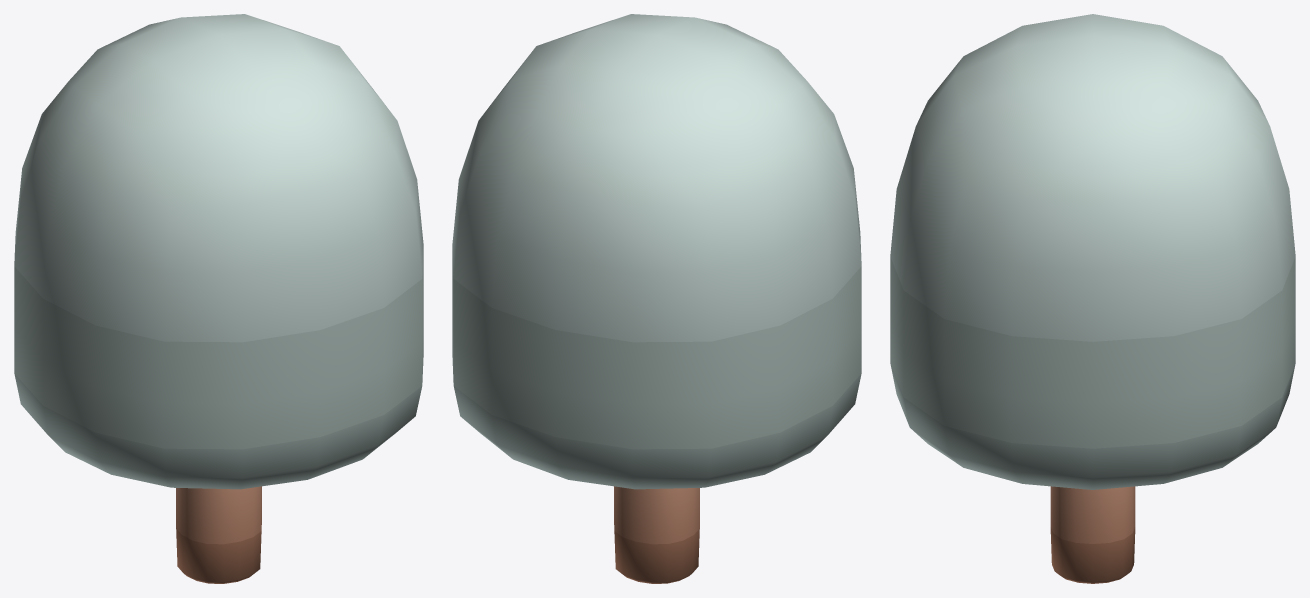
File: tree_13.fbx
3 renders of one model, left to right at view 1: azimuth 30°, elevation 25°; view 2: azimuth 150°, elevation 25°; view 3: azimuth 270°, elevation 25°, orthographic.
Parts seen in each view (by area): view 1: tree_13; view 2: tree_13; view 3: tree_13.
Part boxes in pixels (left/top/right/bottom): tree_13: left=14, top=14, right=423, bottom=583; tree_13: left=452, top=14, right=861, bottom=583; tree_13: left=890, top=14, right=1295, bottom=583.
Bounding box in the file's own units: 188 × 273 × 188.
